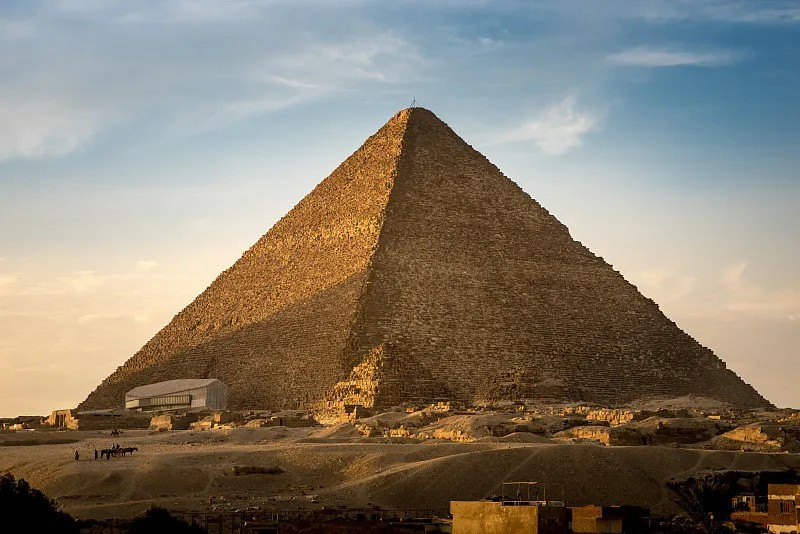Pyramid: (75, 107, 779, 412), (304, 341, 464, 415)
